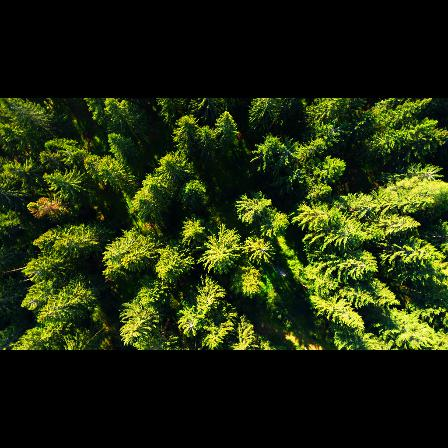Dead: (267, 259, 290, 282)
Sick: (278, 137, 301, 170), (179, 314, 203, 340)
